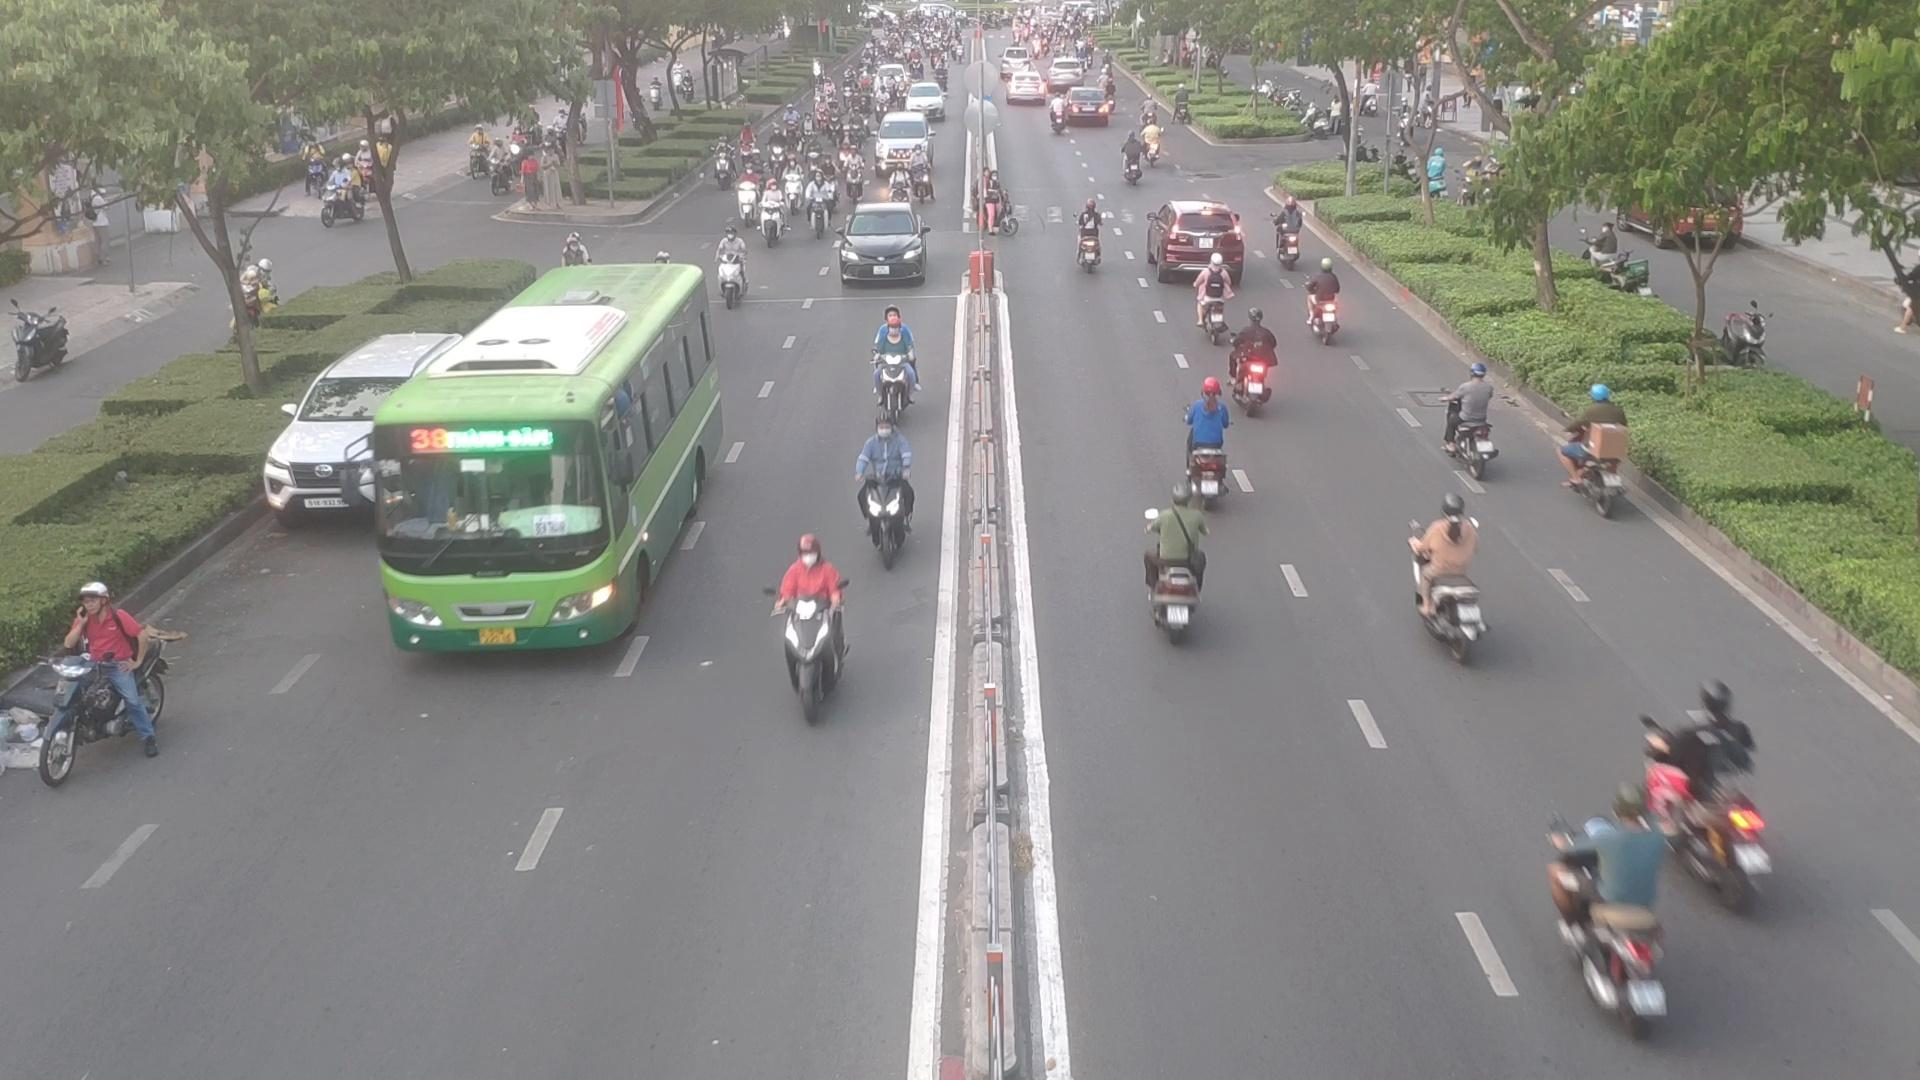bus: (382, 265, 711, 662)
car: (272, 314, 413, 520), (1149, 196, 1249, 286), (833, 204, 930, 287)
motorbike: (1644, 680, 1778, 907), (18, 584, 169, 774), (1559, 855, 1688, 1026), (1643, 676, 1767, 799), (775, 545, 857, 713), (1414, 512, 1501, 659), (1567, 380, 1658, 516), (847, 425, 920, 568), (1130, 501, 1207, 636), (1439, 361, 1511, 469), (1222, 318, 1288, 409), (865, 310, 920, 413), (1305, 262, 1356, 343), (1193, 251, 1234, 339), (712, 229, 756, 303), (976, 185, 1030, 240), (1069, 202, 1110, 274), (746, 194, 787, 249), (1120, 137, 1154, 185), (905, 158, 939, 204)
